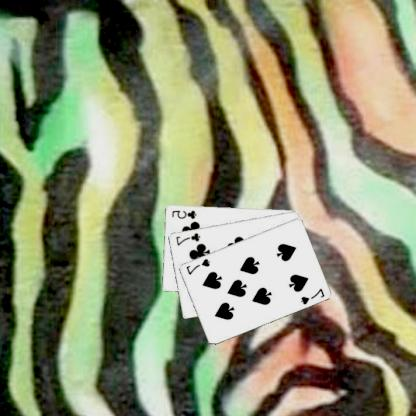5C: (171, 207, 199, 220)
7C: (174, 230, 202, 247)
7S: (184, 256, 212, 276), (300, 286, 327, 306)
